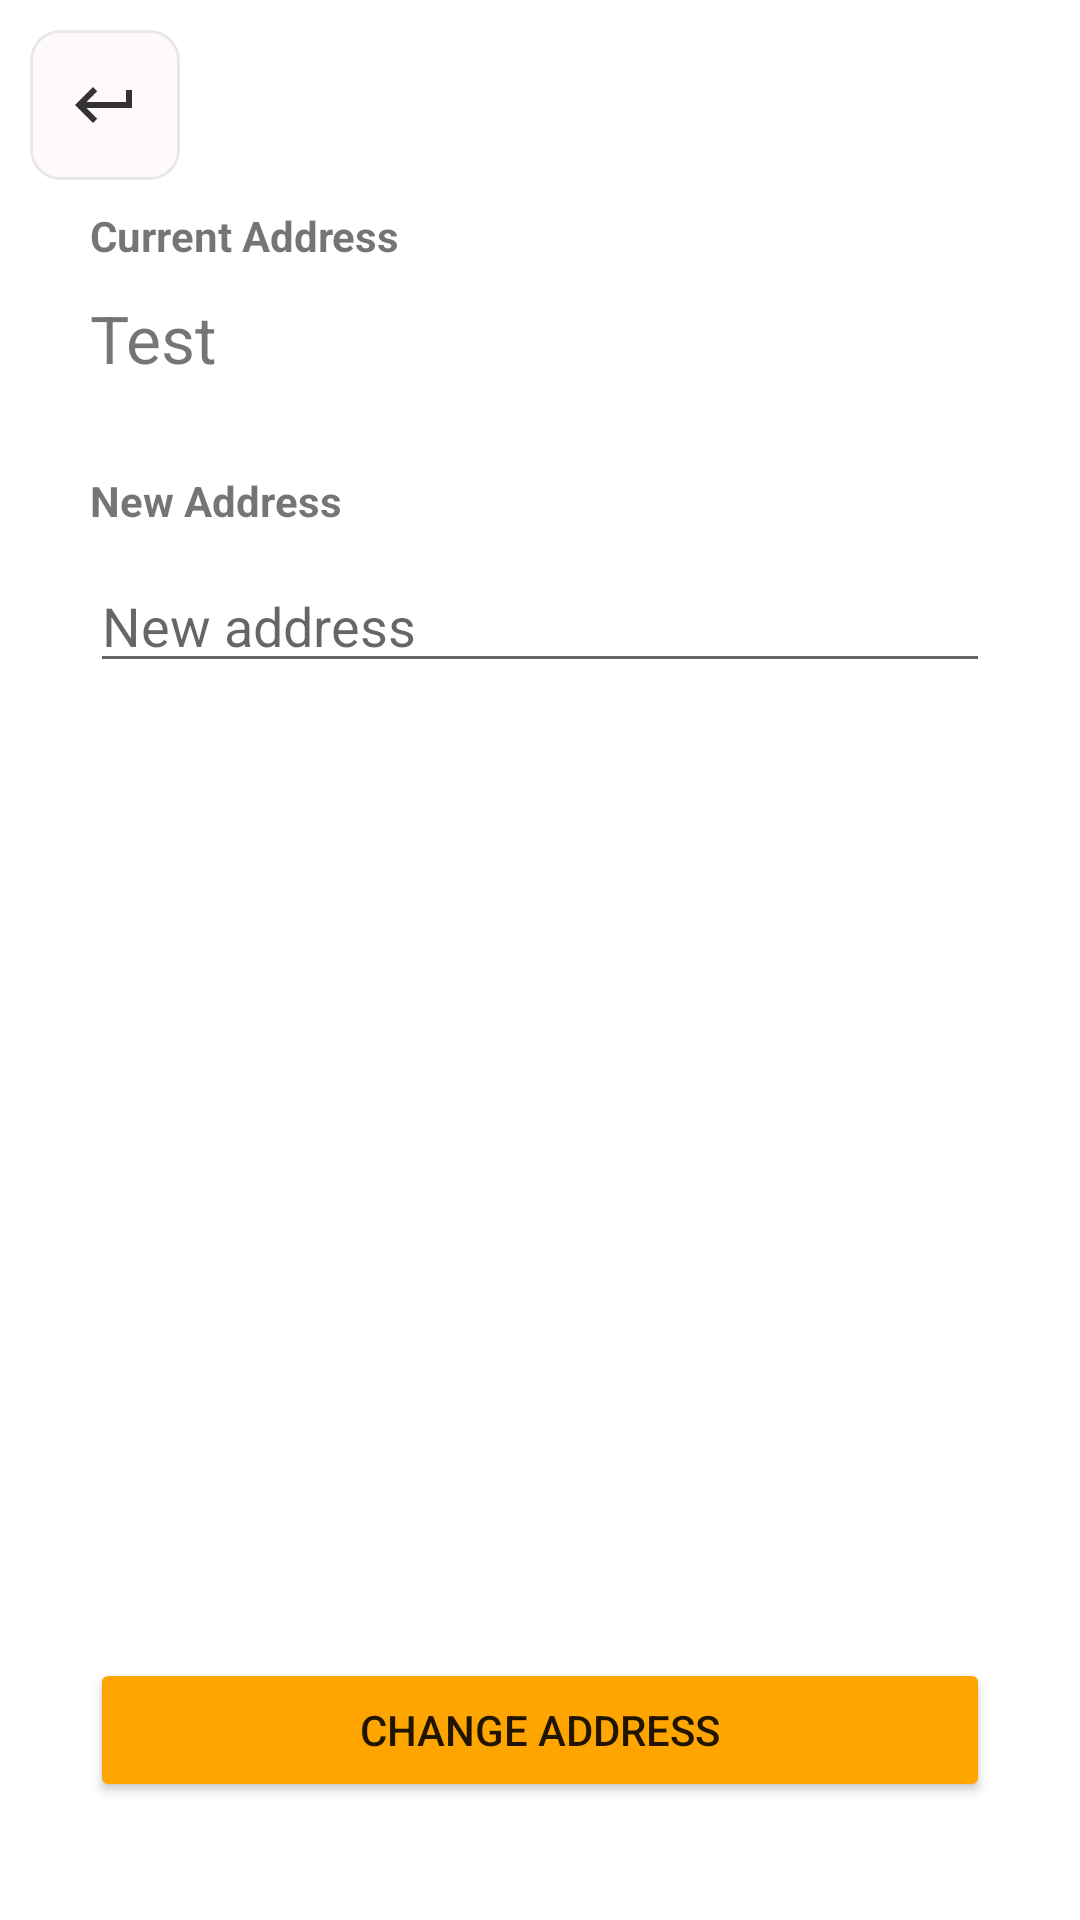

Named icons in this screenshot (1080px x 1920px) and their centers, (x,y):
exit: (103,105)
